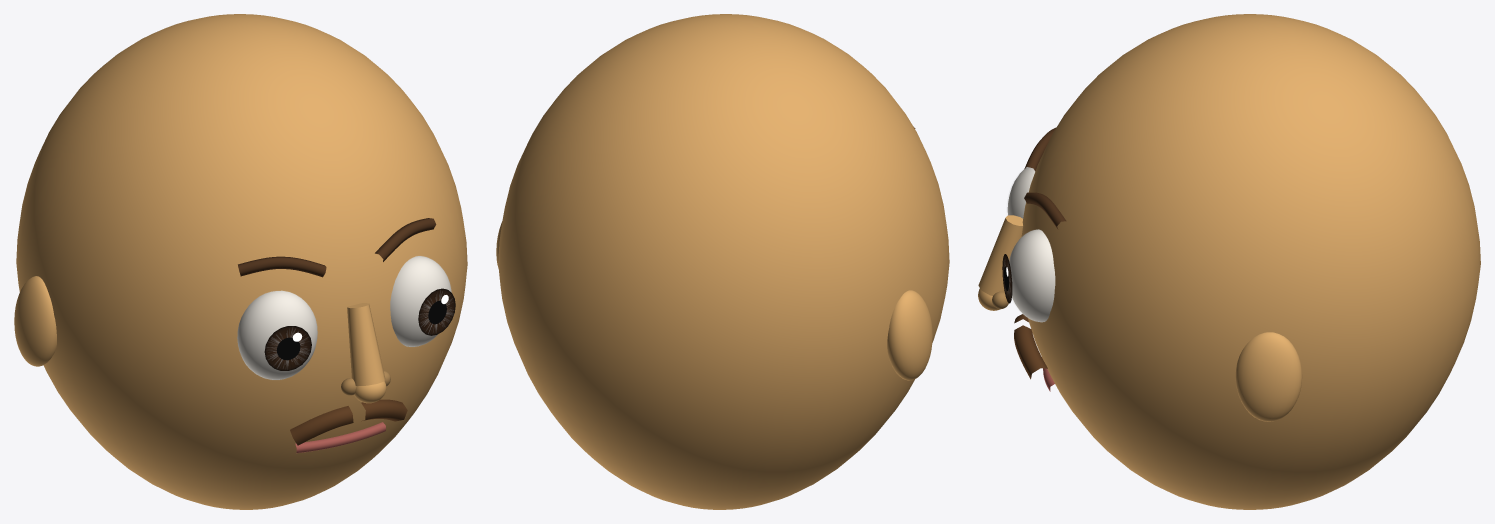
The model's file is 02-moustache.glb.
The picture shows the model from 3 angles, left to right: view 1: azimuth 30°, elevation 25°; view 2: azimuth 150°, elevation 25°; view 3: azimuth 270°, elevation 25°; orthographic projection.
Size of the model in its own units: 0.3087 by 0.321 by 0.3166.
10 materials, 1 textured.
